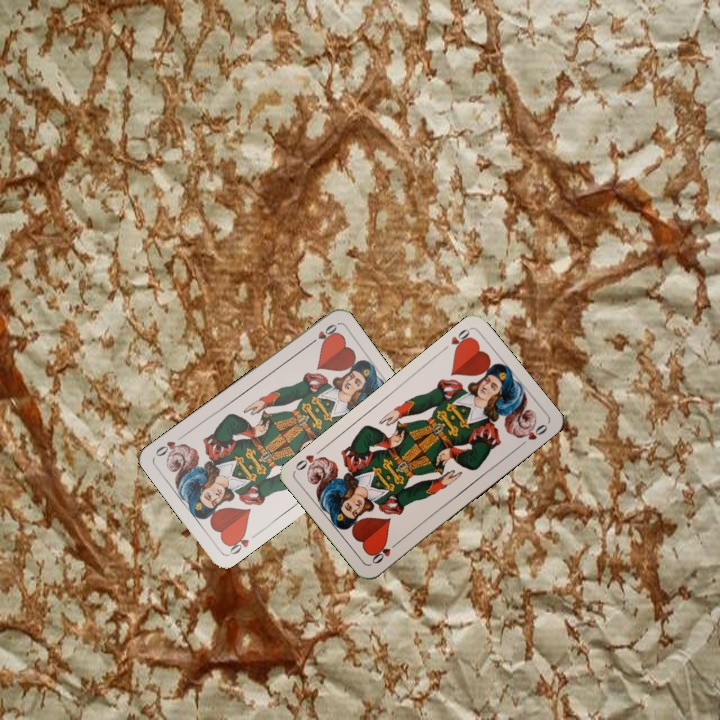HO: (438, 324, 475, 355), (367, 537, 402, 567), (304, 320, 340, 349), (223, 528, 252, 559)
